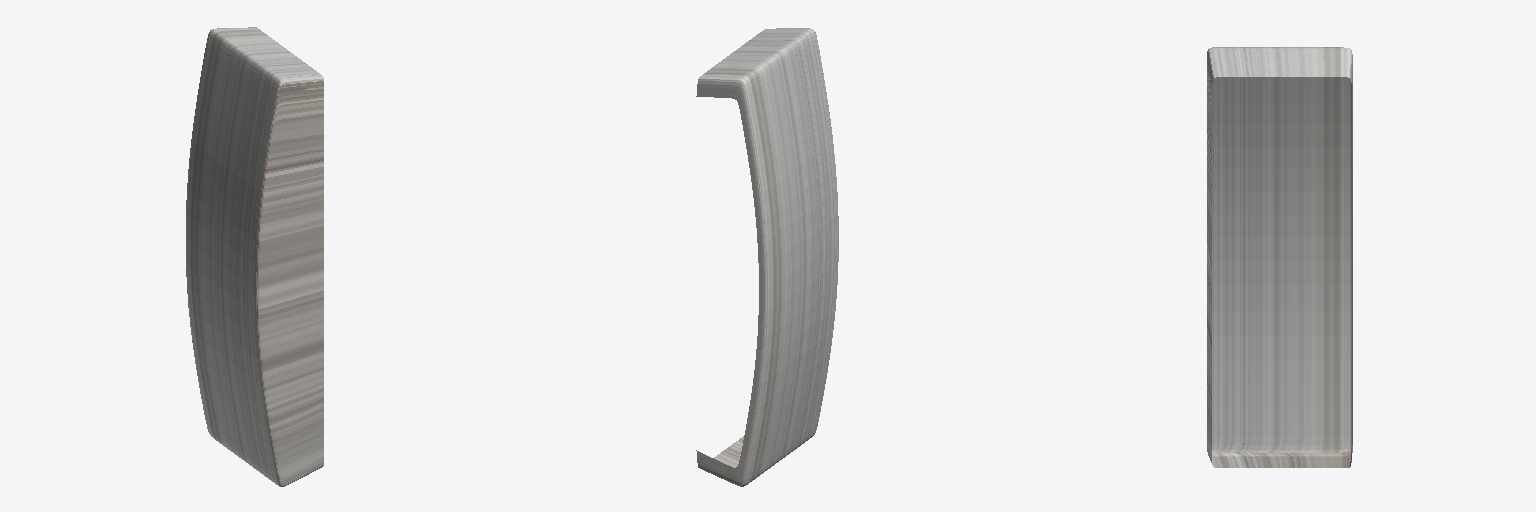
The picture shows the model from 3 angles: view 1: azimuth 30°, elevation 25°; view 2: azimuth 150°, elevation 25°; view 3: azimuth 270°, elevation 25°; orthographic projection.
Bounding box in the file's own units: 0.2127 × 1.16 × 0.3776.
Materials: 1 (1 with a texture image).